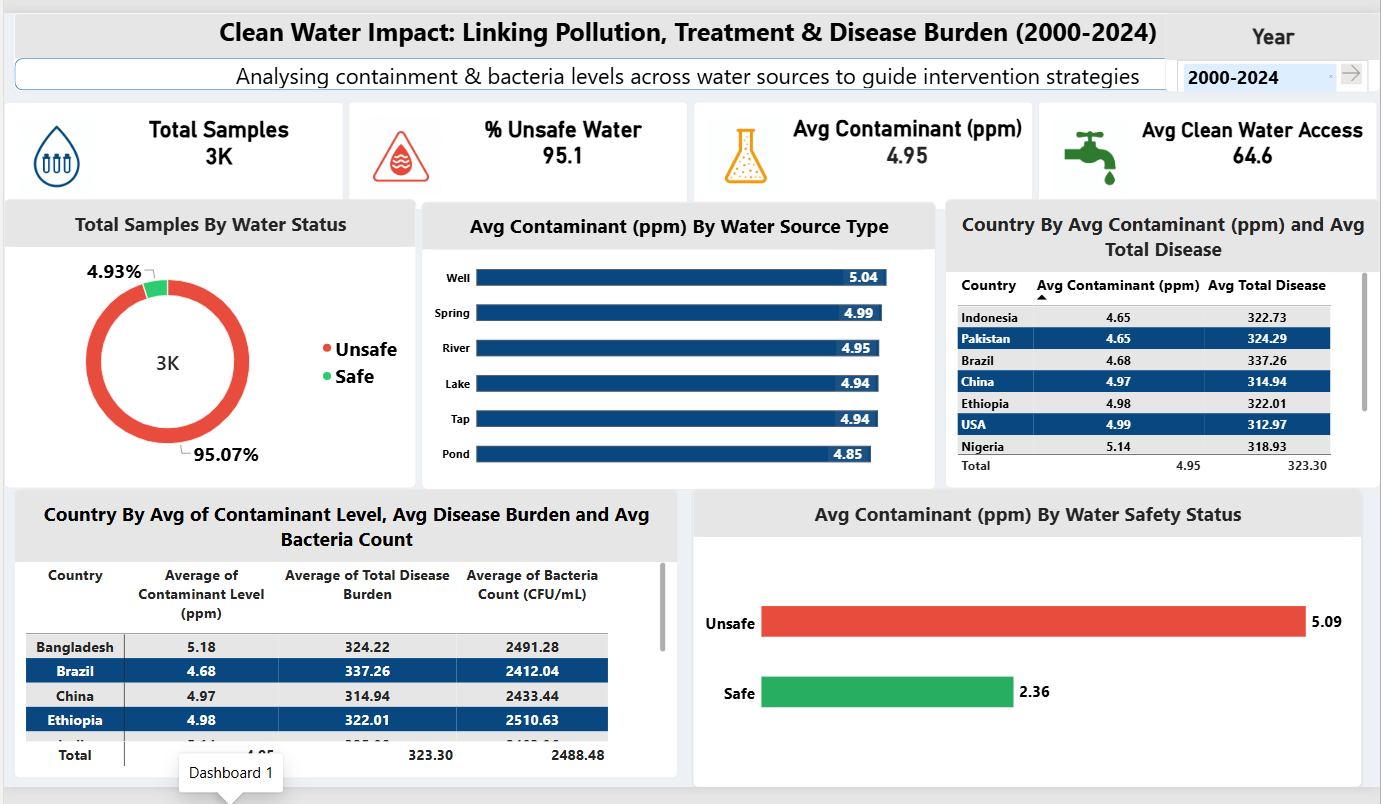

Layout of this report page (visuals, bound fields, positions):
{"tool":"powerbi","page":{"name":"Dashboard 1","canvas":[1920,1080],"ordinal":0},"visuals":[{"type":"cardVisual","fields":{"Data":["water_pollution_disease.Total Samples","water_pollution_disease.% Unsafe Water","water_pollution_disease.Avg Contaminant (ppm)","water_pollution_disease.Avg Clean Water Access"]},"box":[0,123.8,1919.7,151.8],"z":0},{"type":"donutChart","title":"Total Samples By Water Status","fields":{"Category":["water_pollution_disease.Water Safety Status"],"Y":["water_pollution_disease.Total Samples"]},"box":[0,260.7,575,403.6],"z":1},{"type":"barChart","title":"Avg Contaminant (ppm) By Water Source Type","fields":{"Category":["water_pollution_disease.Water Source Type"],"Y":["water_pollution_disease.Avg Contaminant (ppm)"]},"box":[582.1,262.5,717.9,401.8],"z":2},{"type":"tableEx","title":"Country By Avg Contaminant (ppm) and Avg Total Disease","fields":{"Values":["water_pollution_disease.Country","water_pollution_disease.Avg Contaminant (ppm)","water_pollution_disease.Avg Total Disease"]},"box":[1312.5,260.7,607.1,403.6],"z":3},{"type":"pivotTable","title":"Country By Avg of Contaminant Level, Avg Disease Burden and Avg Bacteria Count","fields":{"Rows":["water_pollution_disease.Country"],"Values":["Avg(water_pollution_disease.Contaminant Level (ppm))","Avg(water_pollution_disease.Total Disease Burden)","Avg(water_pollution_disease.Bacteria Count (CFU/mL))"]},"box":[14.3,664.3,926.8,403.6],"z":4},{"type":"shape","title":"Clean  Water Impact: Linking Pollution, Treatment & Disease Burden (2000-2024)","box":[14.3,0,1880.4,108.9],"z":6},{"type":"textSlicer","title":"Year","fields":{"Values":["water_pollution_disease.Year"]},"box":[1619.7,0,300,110.7],"z":7},{"type":"clusteredBarChart","title":"Avg Contaminant (ppm) By Water Safety Status","fields":{"Category":["water_pollution_disease.Water Safety Status"],"Y":["water_pollution_disease.Avg Contaminant (ppm)"]},"box":[960.7,664.3,933.9,416.1],"z":8}]}

Visuals, with their boxes on the page's 1920x1080 design canvas (x1, y1, x2, y2). These are canvas units, not pixel positions in the 1383x804 screenshot, which may show the page scaled, cropped or inside an application window:
cardVisual - water_pollution_disease.Total Samples x water_pollution_disease.% Unsafe Water: 0, 124, 1920, 276
"Total Samples By Water Status" donutChart: 0, 261, 575, 664
"Avg Contaminant (ppm) By Water Source Type" barChart: 582, 262, 1300, 664
"Country By Avg Contaminant (ppm) and Avg Total Disease" tableEx: 1312, 261, 1920, 664
"Country By Avg of Contaminant Level, Avg Disease Burden and Avg Bacteria Count" pivotTable: 14, 664, 941, 1068
"Clean  Water Impact: Linking Pollution, Treatment & Disease Burden (2000-2024)" shape: 14, 0, 1895, 109
"Year" textSlicer: 1620, 0, 1920, 111
"Avg Contaminant (ppm) By Water Safety Status" clusteredBarChart: 961, 664, 1895, 1080
